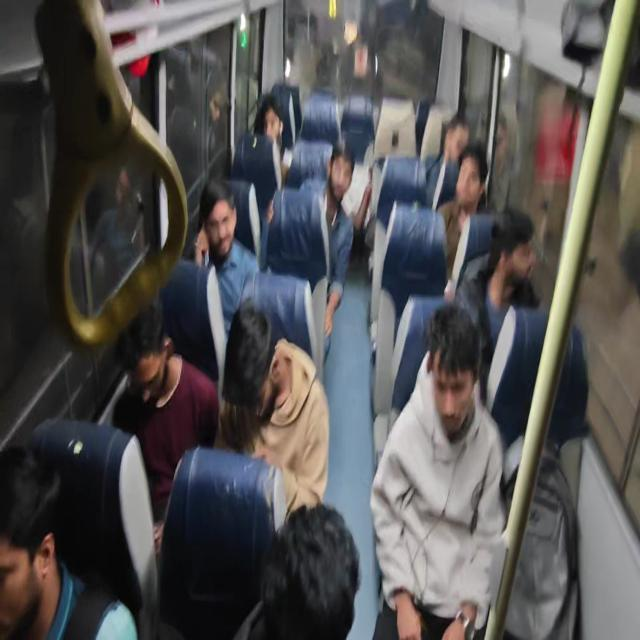person: (370, 302, 507, 638), (0, 443, 139, 639), (113, 301, 219, 551), (215, 299, 330, 524), (158, 177, 260, 382), (234, 501, 361, 639), (454, 207, 542, 399), (299, 140, 371, 348), (87, 164, 145, 303), (436, 142, 489, 282), (426, 116, 470, 210), (252, 92, 294, 190), (487, 112, 513, 210)
